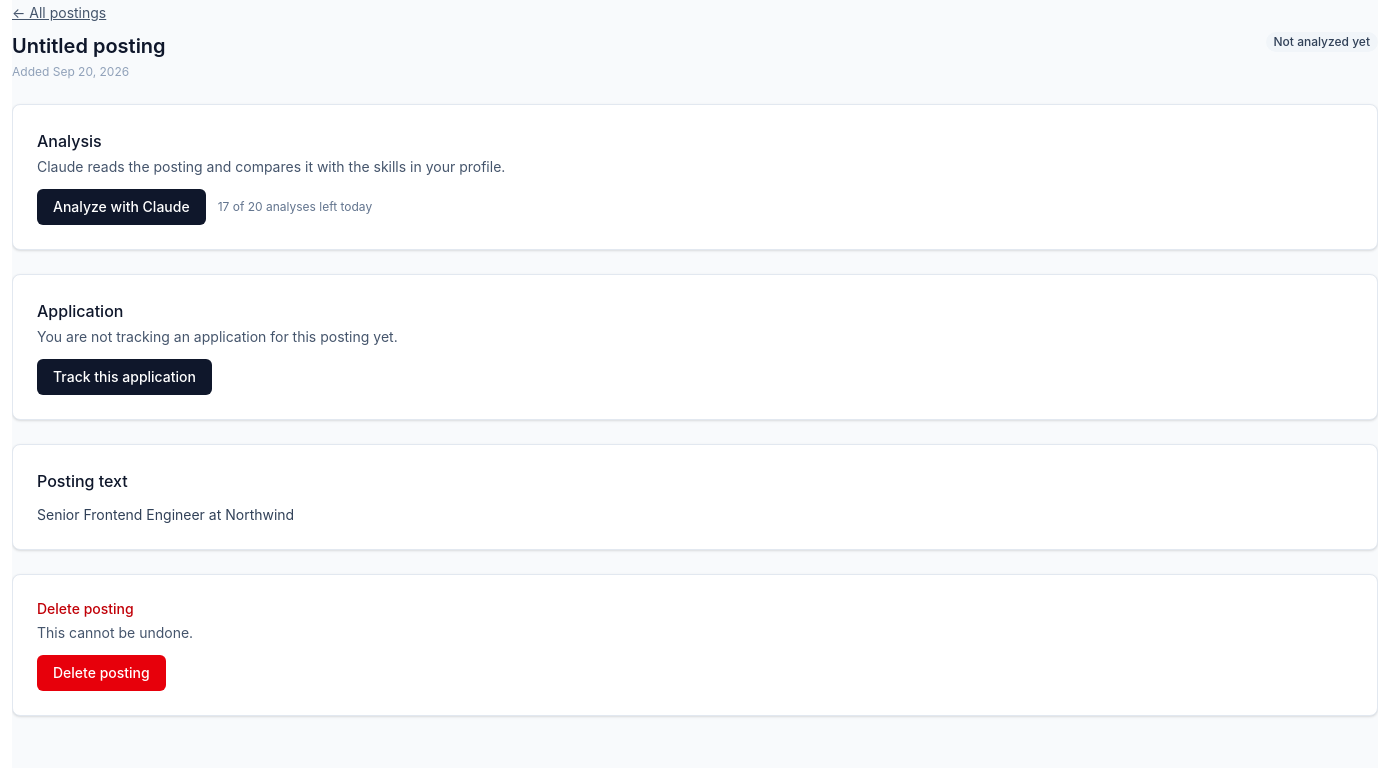
Test: PostingDetailPage › runs the analysis and shows the results
Click the button "Analyze with Claude".
click(121, 207)  # box [37,189,206,225]
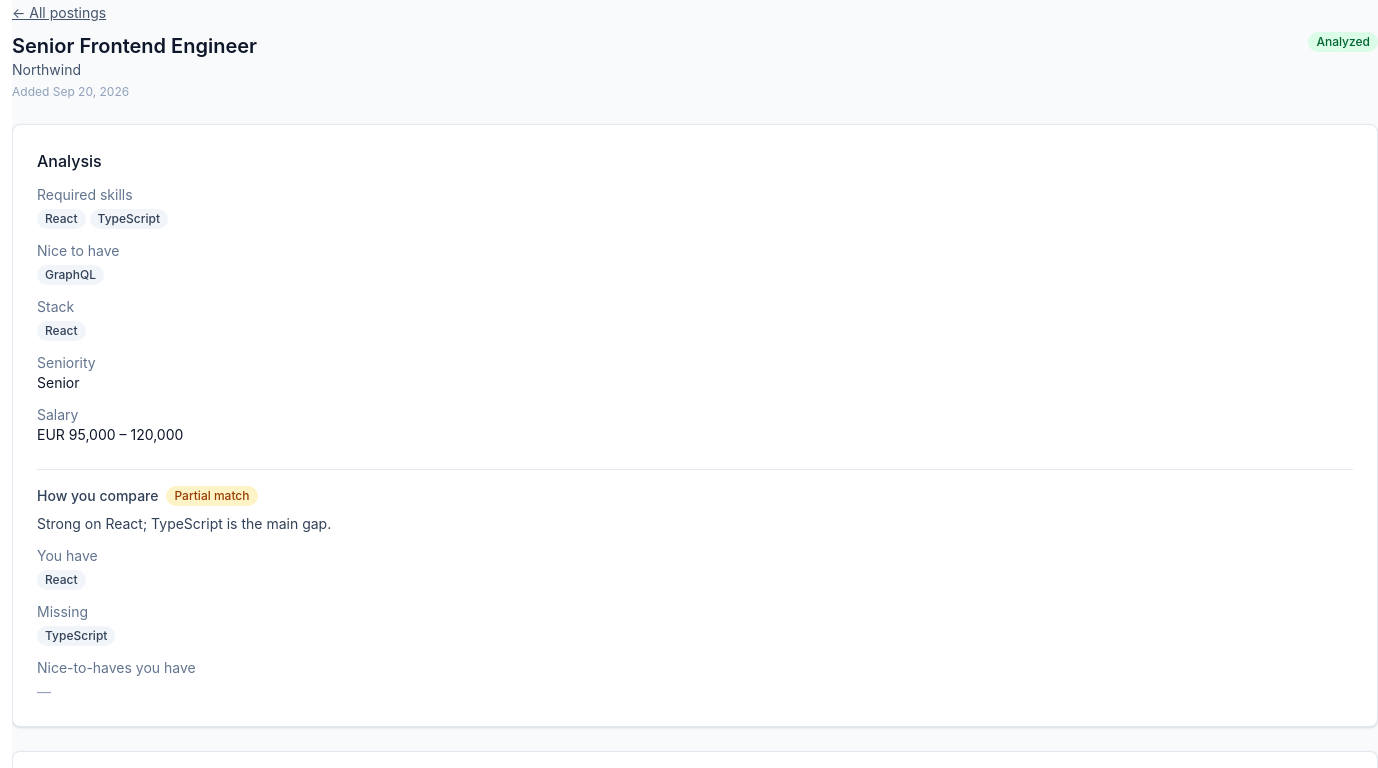
Expected: the heading "How you compare" is shown, [37,486,158,506]
Expected: the text "Strong on React; TypeScript is the main gap." is shown, [37,515,331,532]
Expected: the text "Partial match" is shown, [166,486,258,506]
